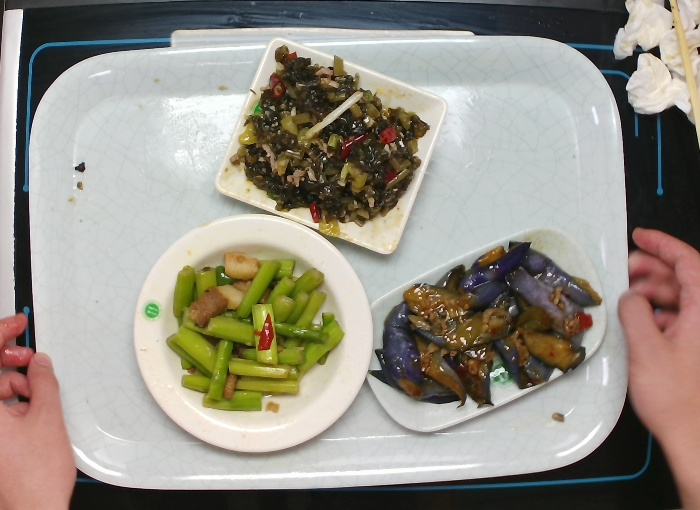WCQzf-Bai_Se_Si_Fang_Die: (213, 34, 450, 258)
WCQzf-Kuan_Bian_Yuan_Die: (129, 211, 376, 455)
WCQzf-Tuo_Yuan_Pan: (364, 224, 610, 436)
